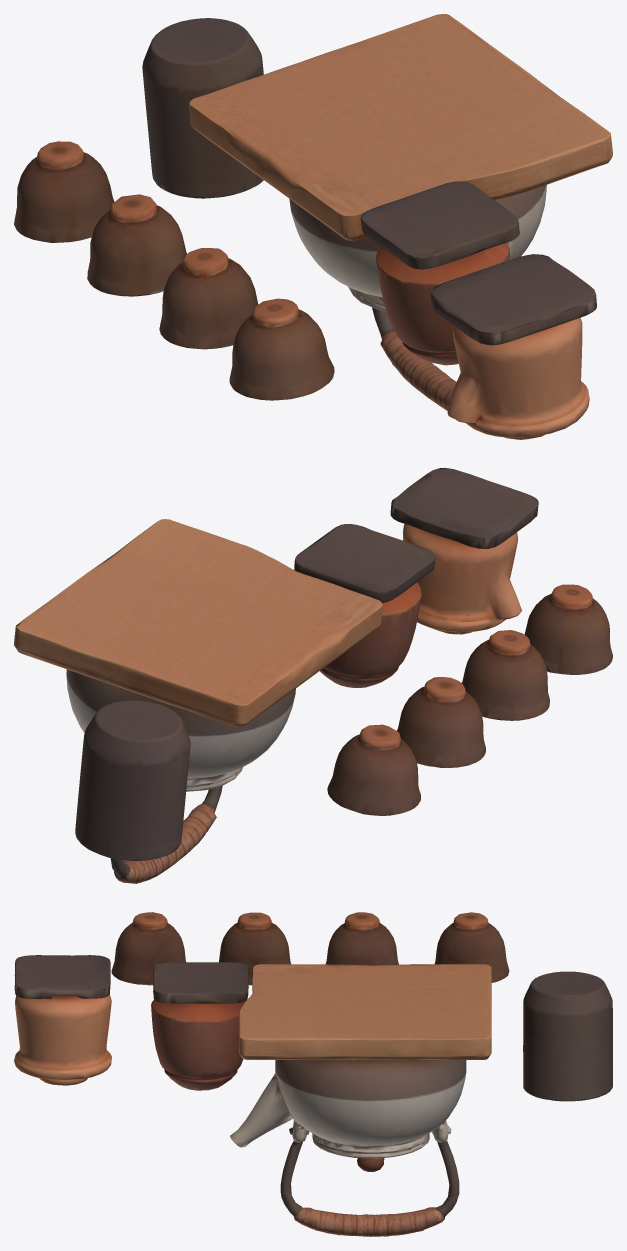
The model's file is Tea Set.fbx.
3 renders of one model, top to bottom at view 1: azimuth 30°, elevation 25°; view 2: azimuth 150°, elevation 25°; view 3: azimuth 270°, elevation 25°, orthographic. The views are drawn at different scales.
Visible parts, largest first — view 1: tripo_node_27ec56d8; view 2: tripo_node_27ec56d8; view 3: tripo_node_27ec56d8.
Part boxes in pixels (box(x1,y1,x2,y2)): tripo_node_27ec56d8: box(14, 14, 612, 439); tripo_node_27ec56d8: box(14, 468, 612, 883); tripo_node_27ec56d8: box(14, 912, 612, 1236).
Size of the model in its own units: 63.38 by 42.1 by 99.98.
